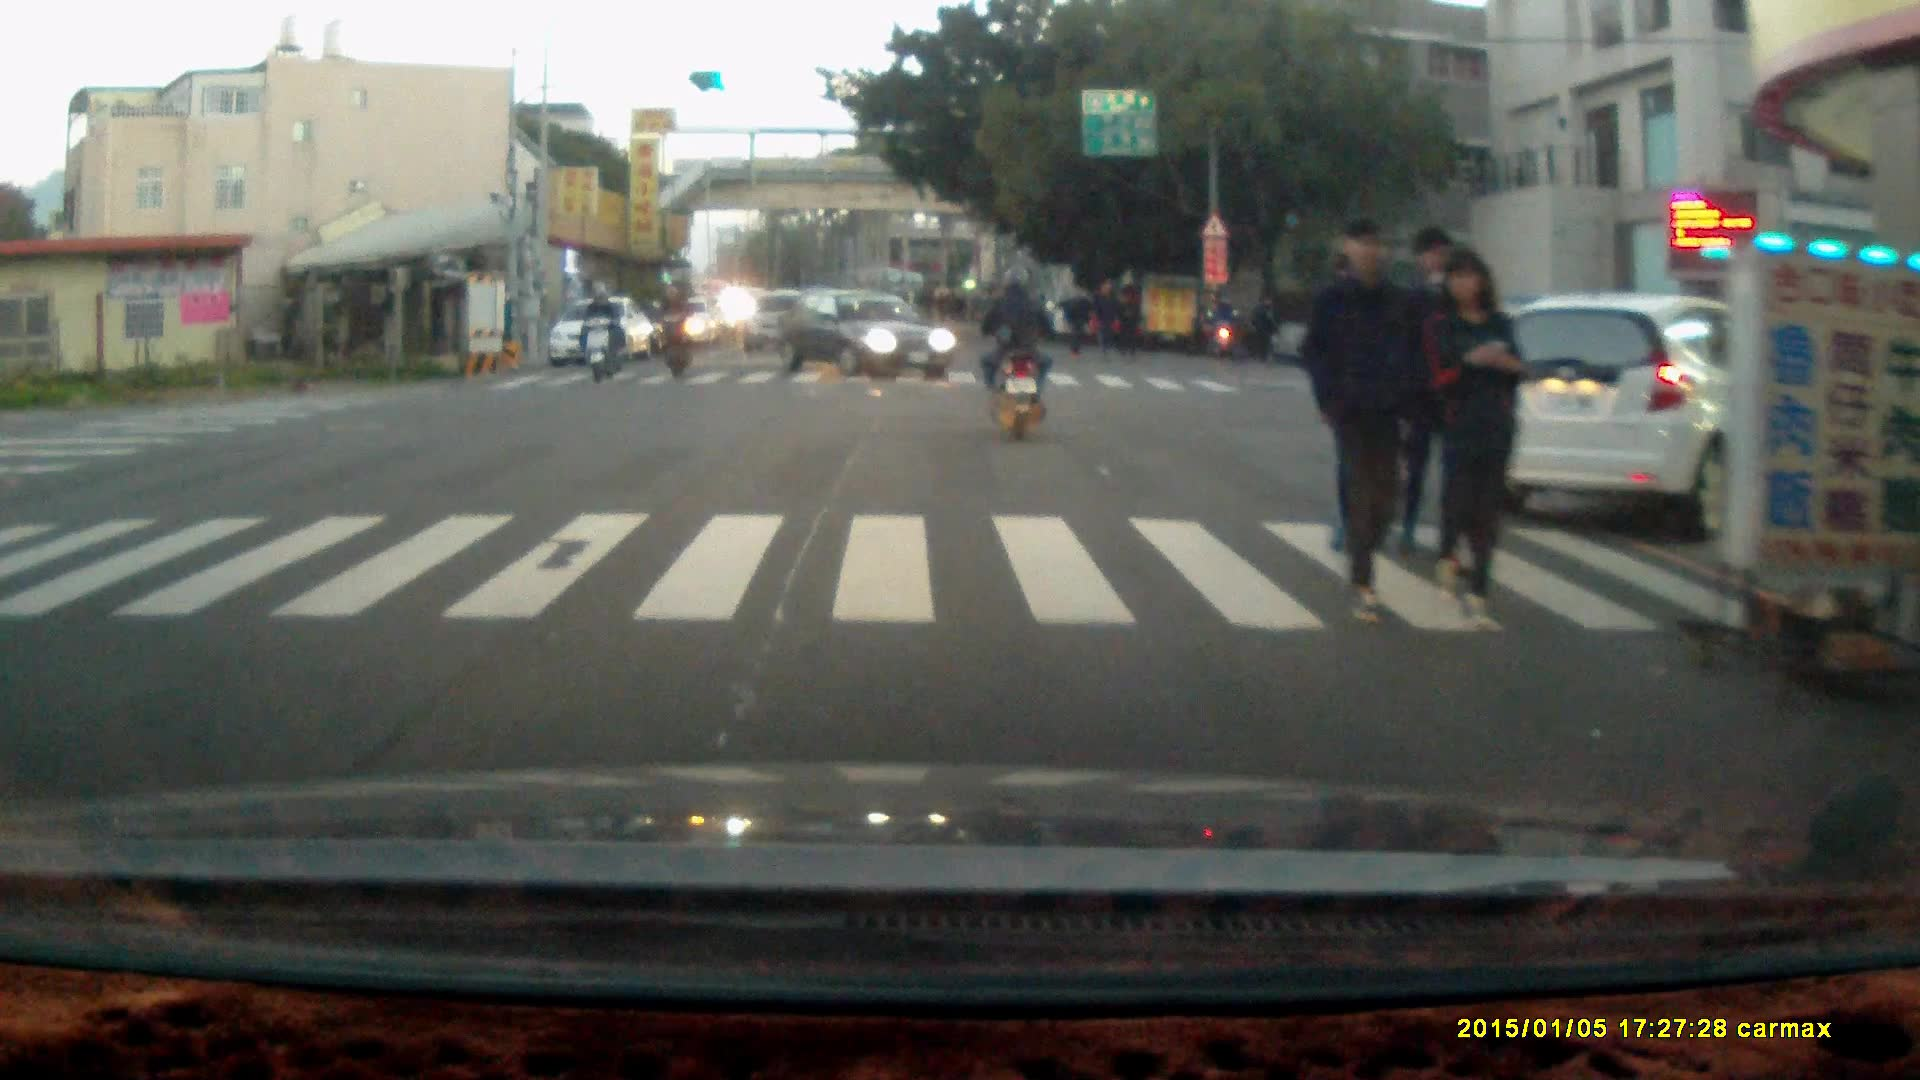pedestrian: (1296, 213, 1431, 632), (1424, 247, 1523, 630), (1112, 286, 1144, 360), (1091, 277, 1120, 360), (1247, 288, 1278, 365), (1059, 282, 1088, 359)
rider: (979, 261, 1052, 445), (578, 283, 623, 385), (651, 280, 697, 377), (1201, 293, 1241, 355)
vehicle: (1465, 286, 1877, 540), (773, 284, 960, 378), (550, 297, 653, 368)
